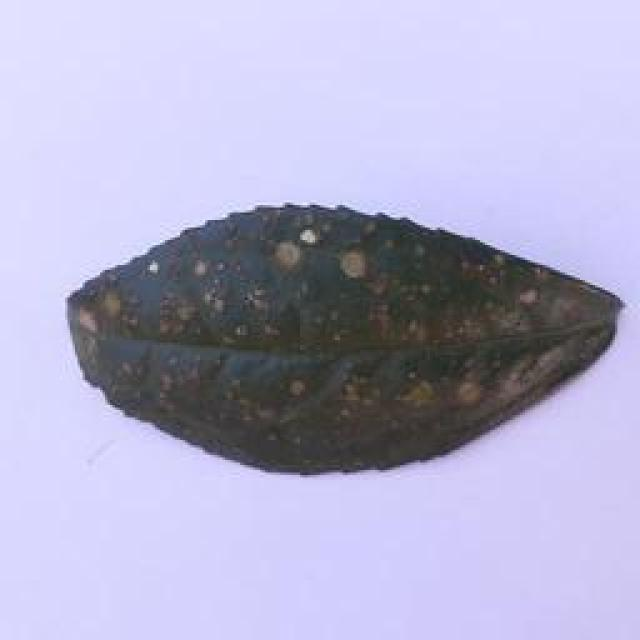Algal Leaf Spot: (54, 189, 626, 482)
